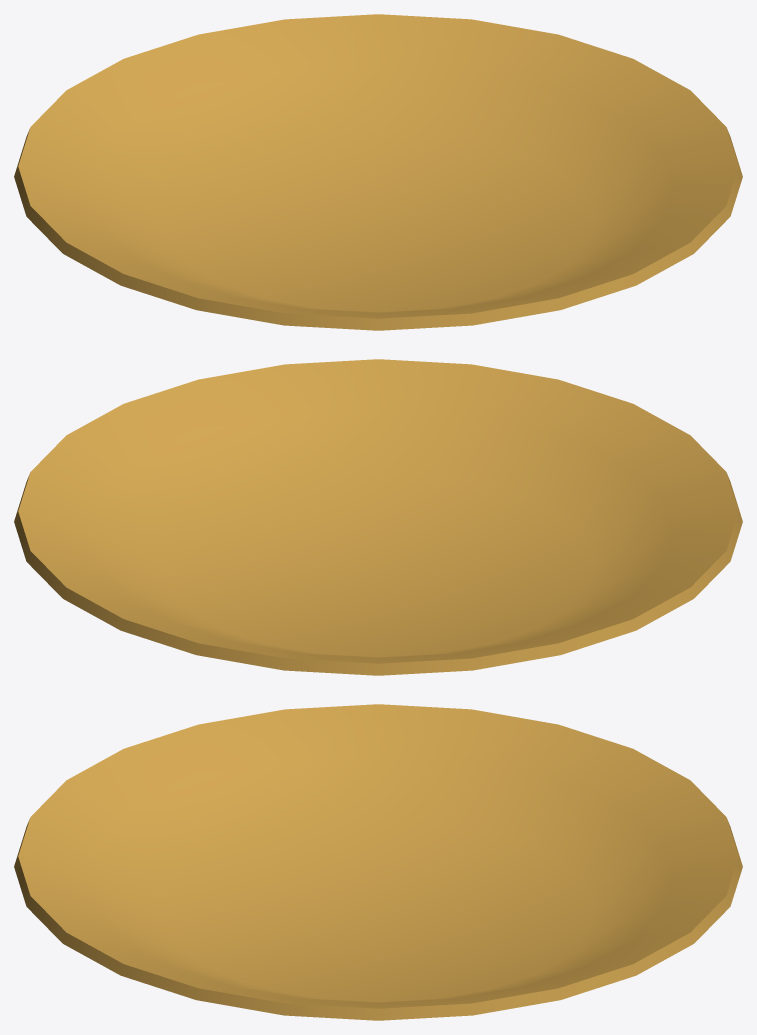
The model's file is tpl_cucina_plate_ochre.glb.
3 renders of one model, top to bottom at view 1: azimuth 30°, elevation 25°; view 2: azimuth 150°, elevation 25°; view 3: azimuth 270°, elevation 25°, orthographic.
Parts seen in each view (by area): view 1: tpl_cucina_plate_ochre; view 2: tpl_cucina_plate_ochre; view 3: tpl_cucina_plate_ochre.
Boxes of the visible parts, left/top/right/bottom form: tpl_cucina_plate_ochre: left=14, top=14, right=742, bottom=330; tpl_cucina_plate_ochre: left=14, top=359, right=742, bottom=675; tpl_cucina_plate_ochre: left=14, top=704, right=742, bottom=1020.
Bounding box in the file's own units: 0.24 × 0.0238 × 0.24.
